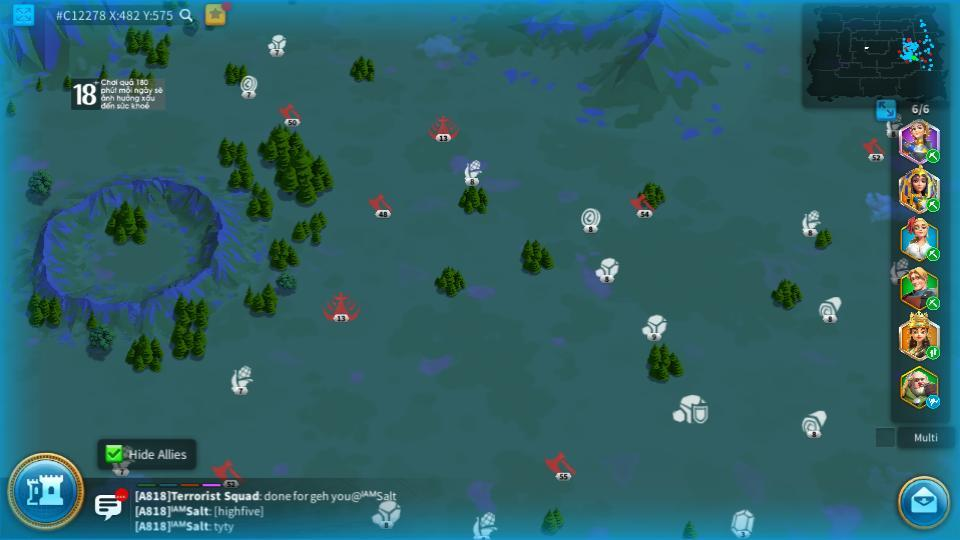gem-z-out: (729, 510, 756, 536)
march_idle: (925, 396, 942, 408)
march_marching: (925, 196, 941, 211), (925, 345, 941, 359), (924, 149, 939, 162)
